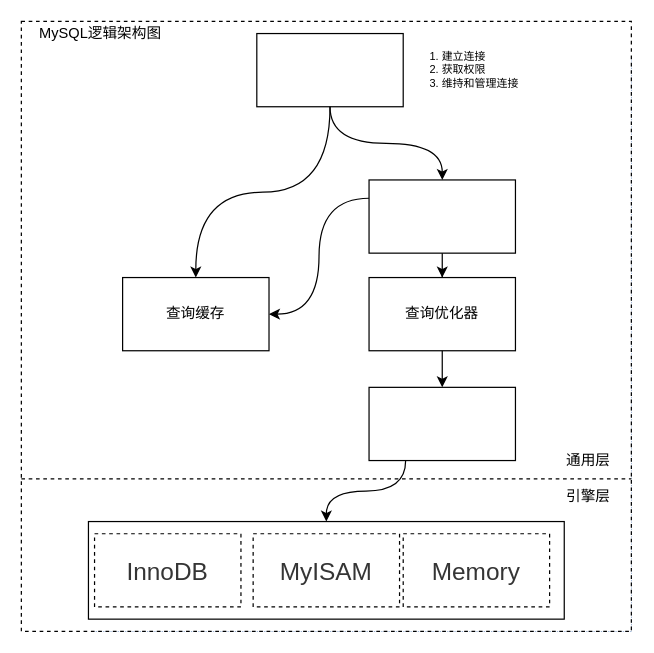
The diagram is 654 pixels wide and 653 high, and some of its shapes have lost their labels. The centre of each missing label's shape, as x and y in pixels:
执行器: (441,423)
词法分析器: (441,216)
连接器: (329,69)
